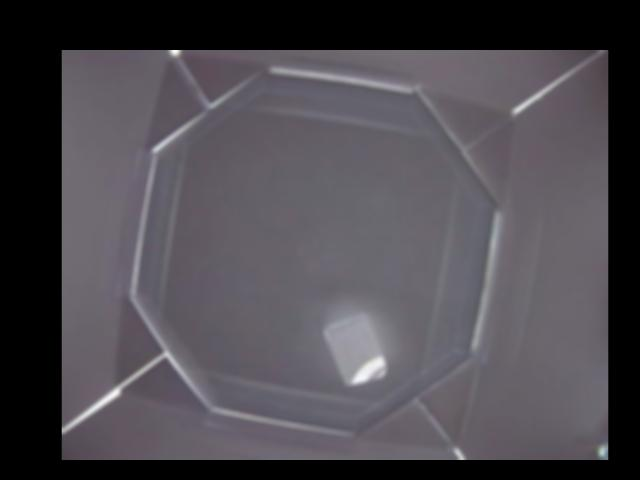China: (325, 313, 387, 383)
